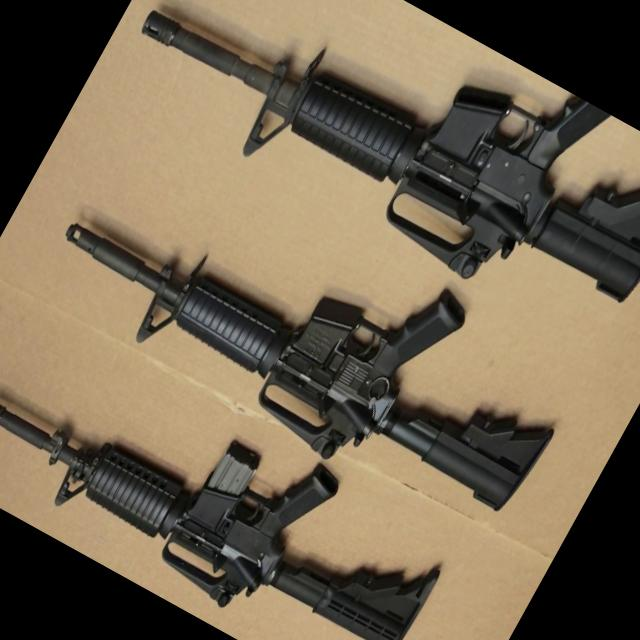Weapon: (22, 122, 586, 551), (99, 0, 640, 365), (0, 293, 470, 640)
